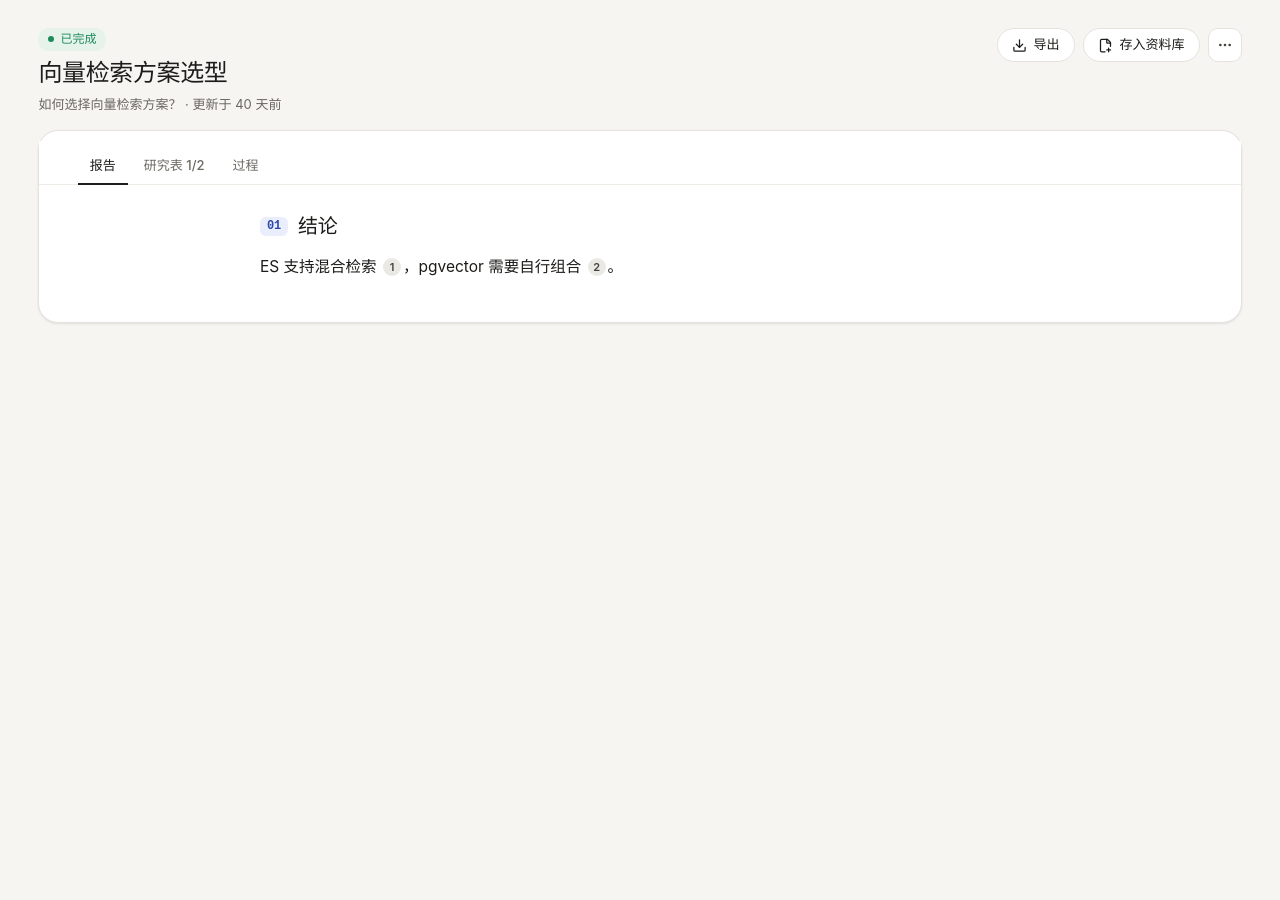
Scenario: ResearchRunView › 已完成的研究默认展示报告，点击证据角标可以追溯原文和对应字段
Expected: the heading "向量检索方案选型" is shown, [38,57,228,88]
Expected: the text "已完成" is shown, [38,28,106,51]
Click the button named "查看证据 2": coordinates (597, 267) [588,258,606,276]
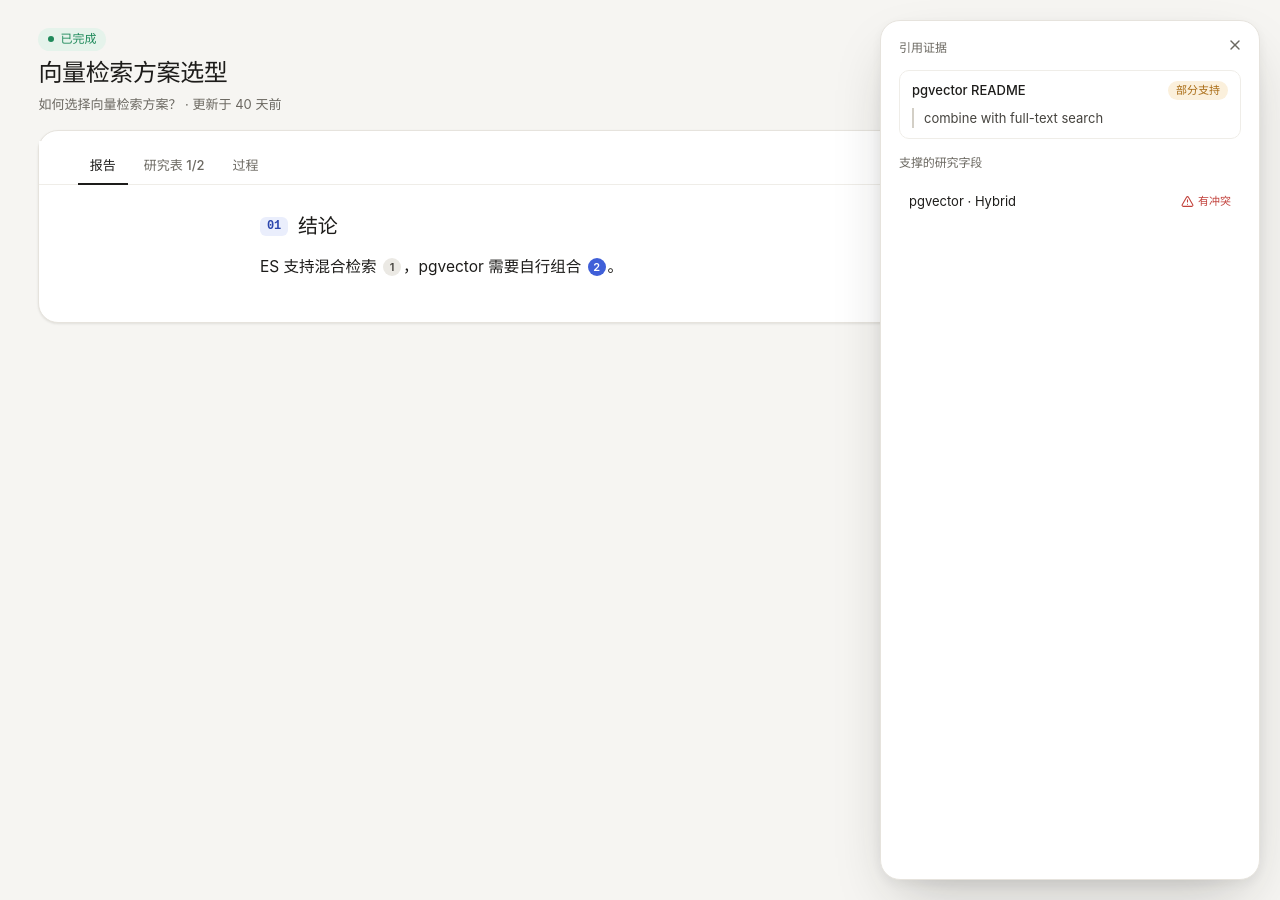
Expected: the text "pgvector README" is shown, [912,81,1026,99]
Expected: the text "combine with full-text search" is shown, [912,108,1228,128]
Click the button "pgvector · Hybrid 有冲突": coordinates (936, 201) [899,183,1241,219]
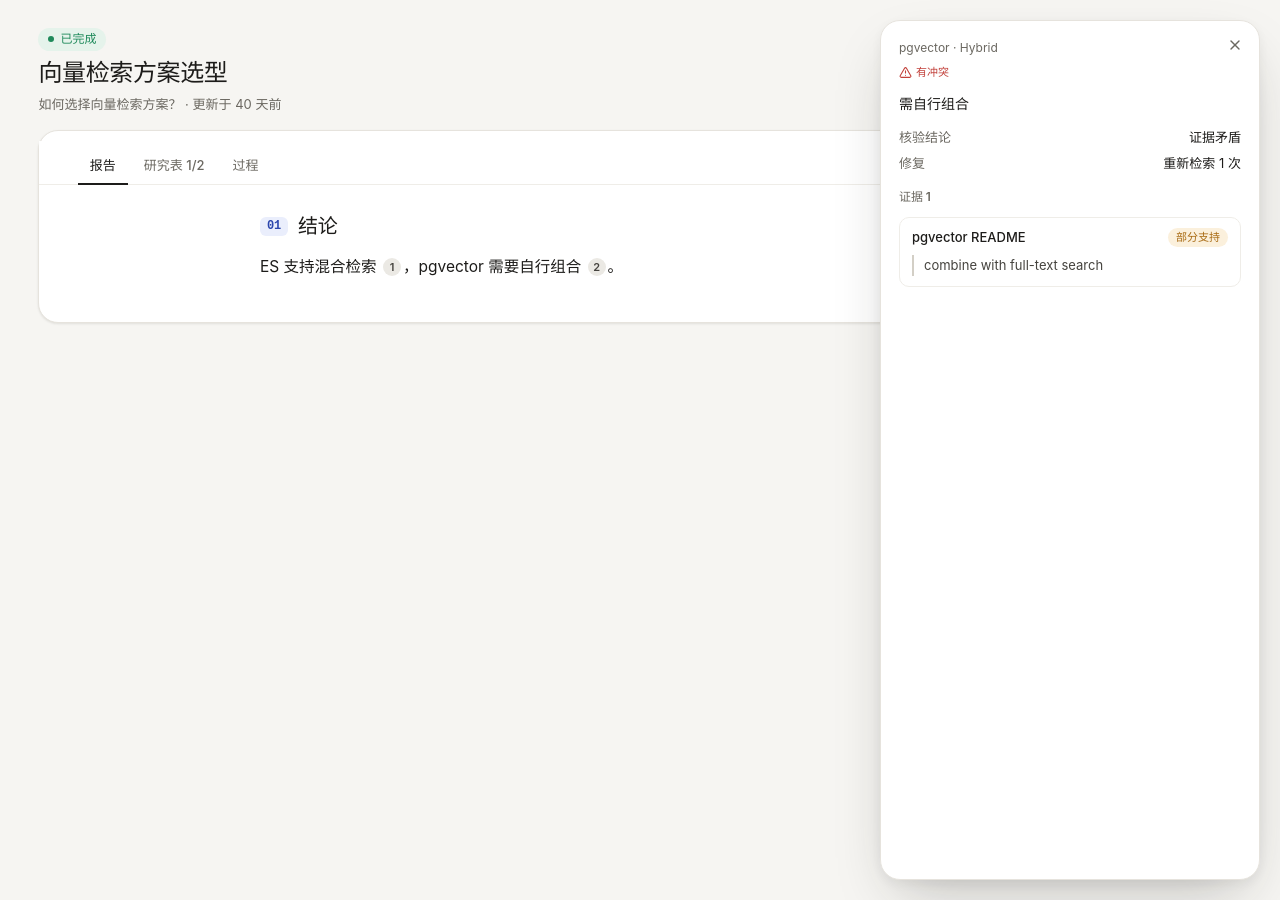
Expected: the text "证据矛盾" is shown, [1189,127,1241,147]
Expected: the text "重新检索 1 次" is shown, [1163,153,1241,173]
